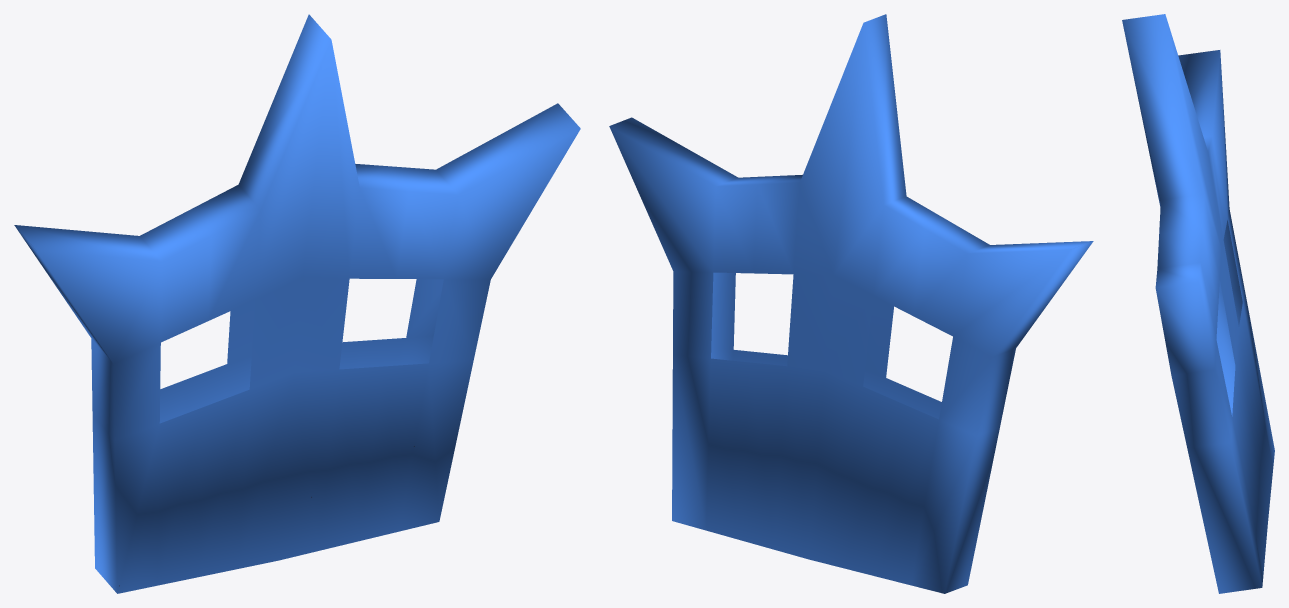
The model's file is Mask_Blue.fbx.
3 views of the same model, side by side, from view 1: azimuth 30°, elevation 25°; view 2: azimuth 150°, elevation 25°; view 3: azimuth 270°, elevation 25° (orthographic). The views are drawn at different scales.
Visible parts, largest first — view 1: Mask; view 2: Mask; view 3: Mask.
Part boxes in pixels (x1,y1,x2,y2): Mask: (14,14,580,593); Mask: (609,14,1093,593); Mask: (1122,14,1274,593).
Bounding box in the file's own units: 340 × 348 × 94.09.
1 material, 1 textured.
